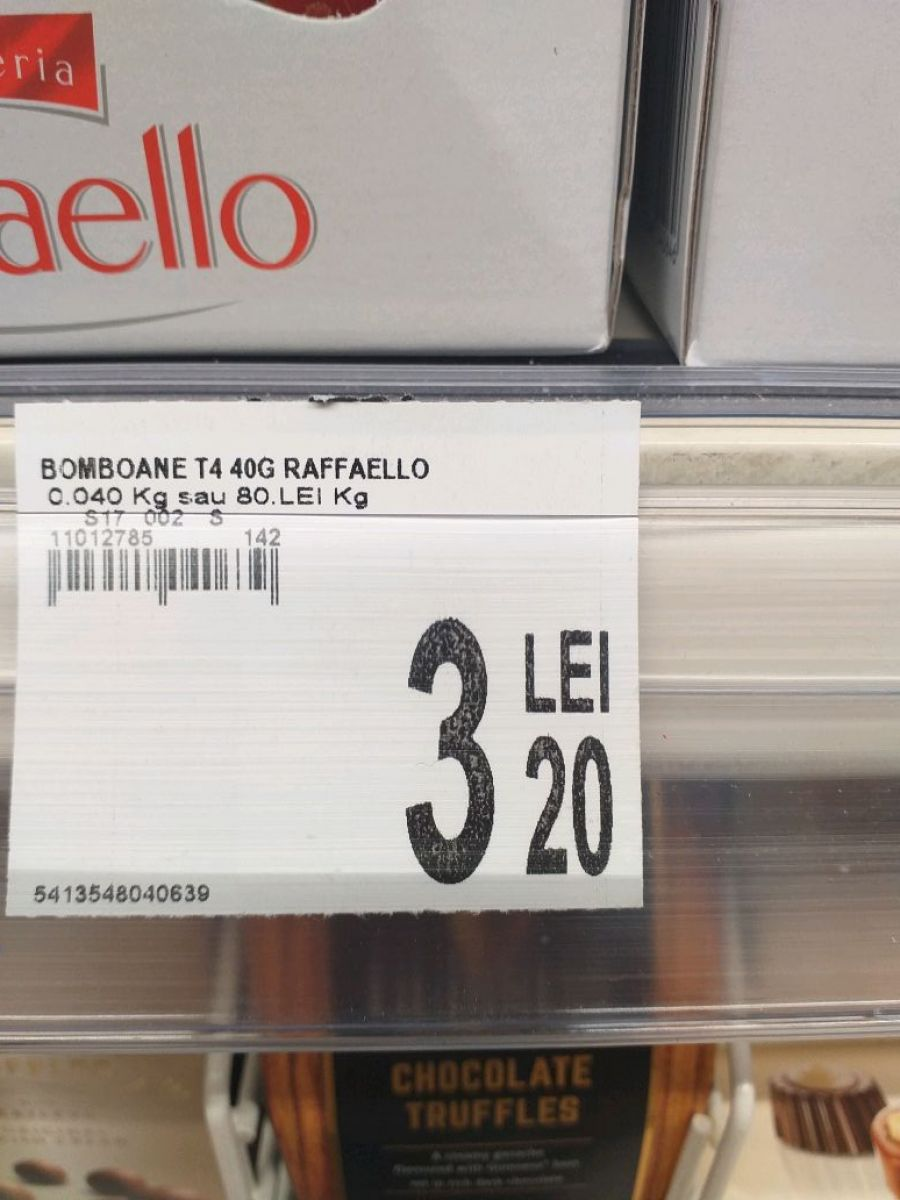price_bani: (515, 726, 620, 886)
price_lei: (395, 608, 502, 896)
price_tag: (3, 377, 691, 953)
product_id: (28, 874, 223, 908)
product_name: (24, 443, 440, 486)
